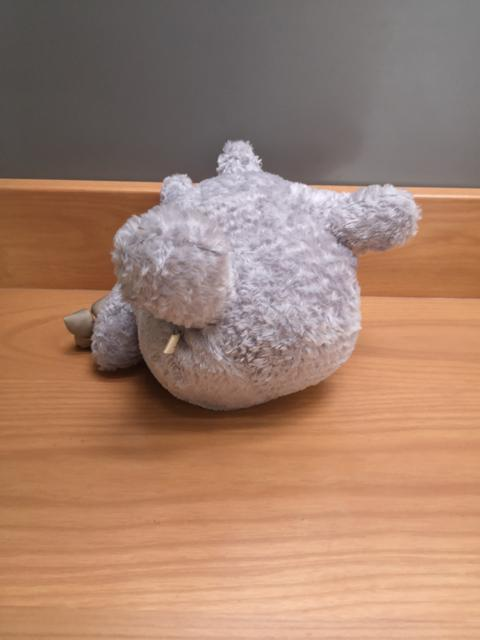totoro: (59, 135, 425, 418)
